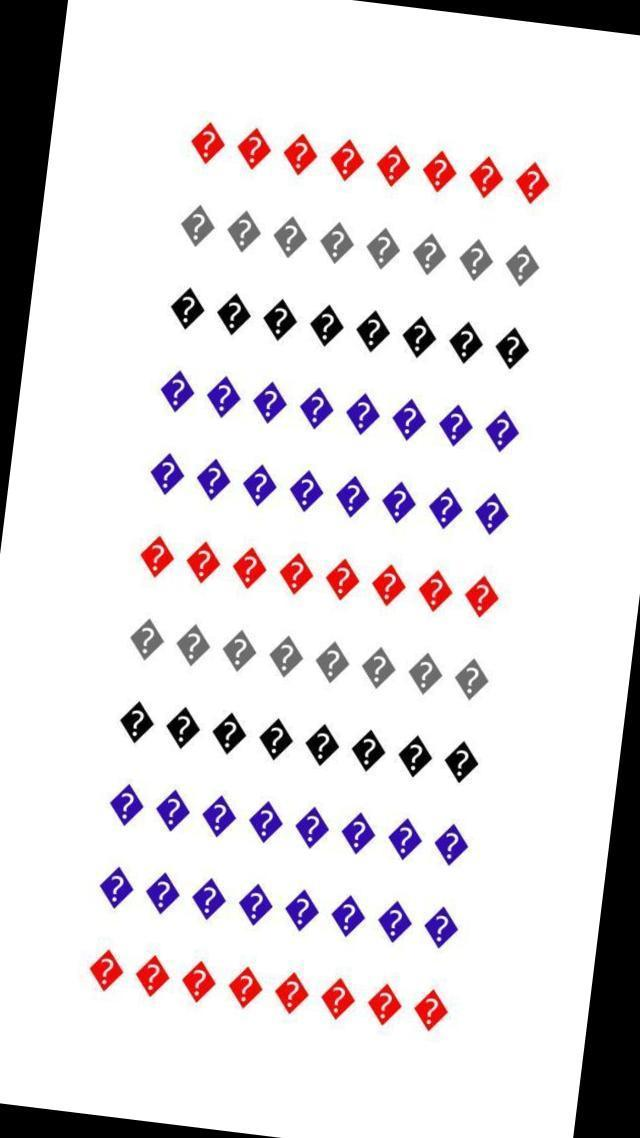ASCII: (171, 617, 217, 674), (382, 810, 427, 867), (284, 460, 328, 518), (276, 129, 324, 182), (478, 403, 524, 458), (328, 469, 374, 524), (324, 887, 370, 941), (240, 797, 288, 848), (432, 398, 478, 451), (134, 530, 179, 584), (438, 734, 483, 788), (429, 817, 474, 871), (395, 308, 439, 363), (102, 775, 146, 830), (144, 446, 187, 502), (192, 450, 234, 507), (470, 487, 514, 541), (238, 455, 280, 511), (291, 380, 338, 430), (153, 367, 199, 418), (162, 284, 208, 335), (256, 294, 301, 346), (309, 633, 354, 685), (392, 732, 437, 784), (278, 883, 323, 935), (376, 473, 420, 526), (206, 707, 250, 760), (203, 370, 246, 424), (159, 700, 201, 755), (488, 320, 534, 370), (288, 802, 334, 852), (230, 125, 276, 175), (451, 234, 496, 285), (442, 316, 486, 368), (212, 286, 254, 340), (274, 546, 316, 600), (362, 980, 407, 1030), (178, 956, 222, 1007), (184, 121, 228, 172), (510, 156, 554, 207), (352, 302, 392, 358), (315, 216, 358, 268), (224, 959, 266, 1012), (236, 876, 275, 933), (462, 154, 508, 202), (196, 790, 240, 840), (181, 535, 224, 586), (419, 901, 462, 952), (267, 211, 310, 262), (247, 375, 289, 427), (388, 393, 430, 445), (362, 220, 404, 272), (344, 728, 390, 775), (252, 714, 296, 763), (334, 810, 378, 859), (268, 970, 312, 1019), (115, 698, 158, 748), (408, 230, 451, 280), (220, 623, 258, 679), (306, 298, 346, 351), (369, 558, 409, 611), (172, 200, 218, 246), (124, 616, 168, 664), (260, 634, 308, 678), (82, 948, 126, 996), (319, 555, 362, 604), (187, 874, 230, 923), (340, 389, 382, 439), (132, 951, 173, 1002), (375, 894, 415, 946), (413, 568, 458, 614), (411, 984, 452, 1034), (152, 785, 192, 836), (328, 133, 368, 184), (462, 570, 504, 618), (358, 645, 400, 693), (404, 650, 446, 698), (95, 860, 137, 908), (371, 142, 413, 190), (317, 974, 360, 1020), (449, 656, 491, 703), (224, 204, 263, 254), (143, 868, 181, 919), (302, 722, 344, 767), (502, 242, 542, 289), (424, 484, 464, 530), (228, 546, 268, 591), (419, 150, 459, 193)
